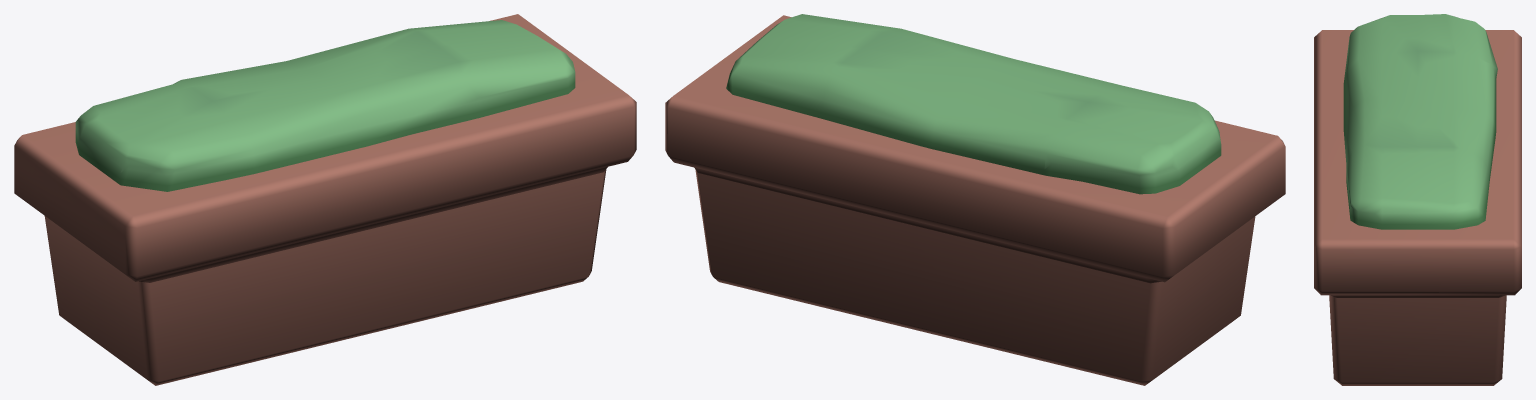
The model's file is SM_FlowerPot_Empty.fbx.
3 renders of one model, left to right at view 1: azimuth 30°, elevation 25°; view 2: azimuth 150°, elevation 25°; view 3: azimuth 270°, elevation 25°, orthographic. The views are drawn at different scales.
Visible parts, largest first — view 1: SM_FlowerPot_Empty; view 2: SM_FlowerPot_Empty; view 3: SM_FlowerPot_Empty.
Part boxes in pixels (x1,y1,x2,y2): SM_FlowerPot_Empty: (14, 14, 636, 385); SM_FlowerPot_Empty: (665, 14, 1285, 385); SM_FlowerPot_Empty: (1314, 14, 1521, 385).
Bounding box in the file's own units: 200 × 85.28 × 81.54.
